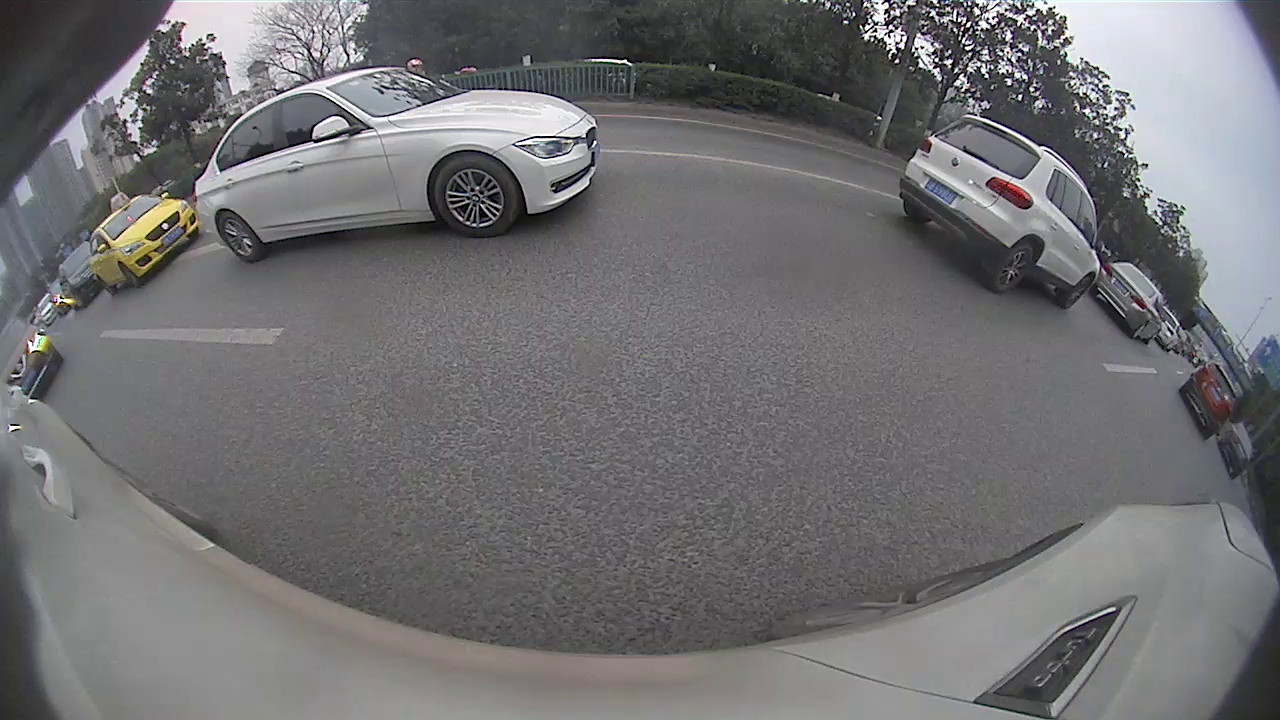car: (192, 67, 601, 264), (900, 113, 1104, 310), (89, 193, 201, 296), (1090, 259, 1169, 345), (1, 317, 62, 406), (1179, 362, 1244, 440), (54, 241, 102, 310), (1216, 423, 1256, 479)
front: (432, 152, 522, 241), (1063, 274, 1091, 308), (122, 261, 142, 288)
rear: (991, 243, 1034, 294), (219, 212, 258, 265)
